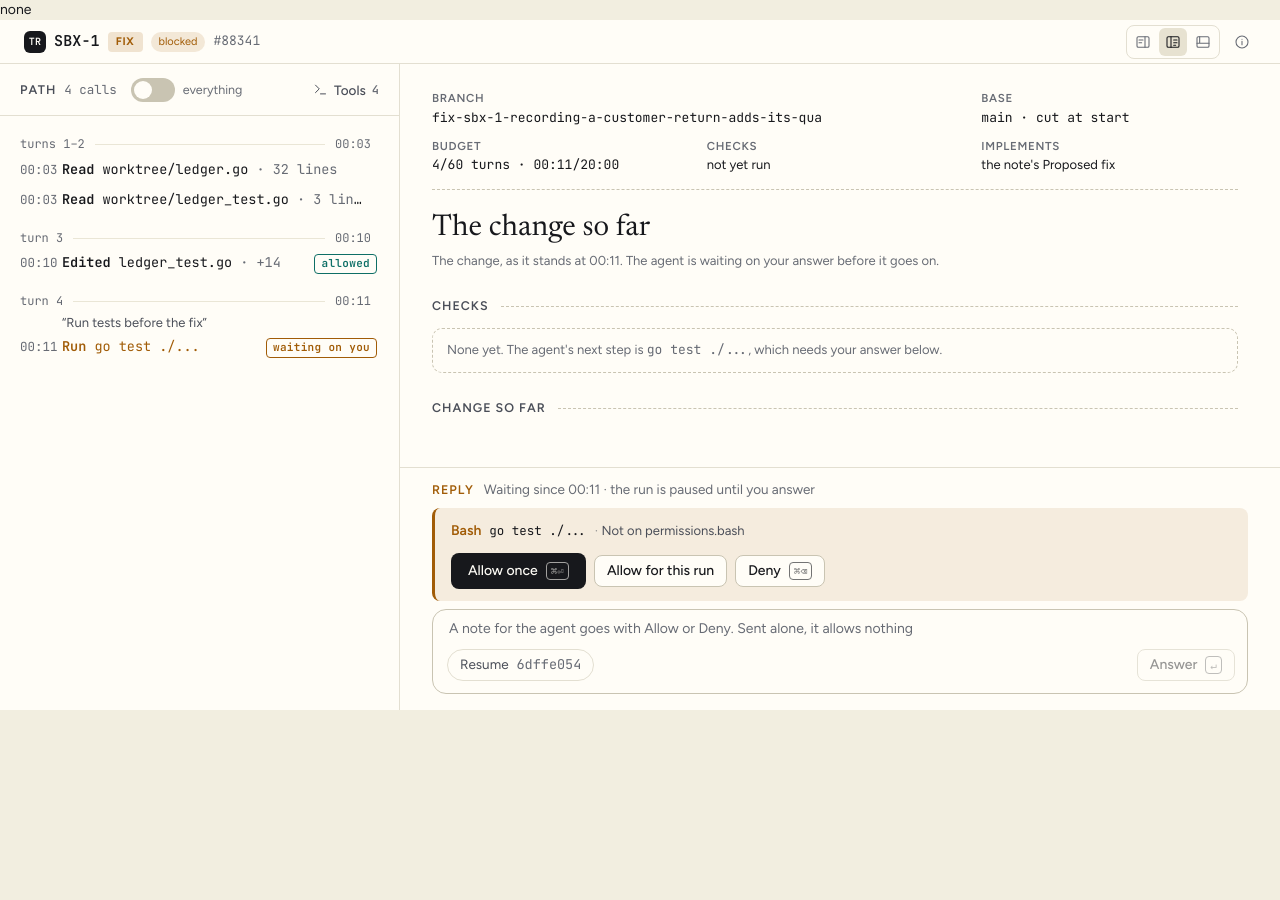
Scenario: S2 · the fix run blocked on go test › answers in words: the free answer goes to resume as text, with no decision
The image size is (1280, 900).
Check: the heading "SBX-1" is shown, box [54, 31, 100, 53]
Replace the text in the text box named "Answer" with "Run only the ledger package." at [840, 626], box [433, 610, 1247, 643]
(page scrolled)
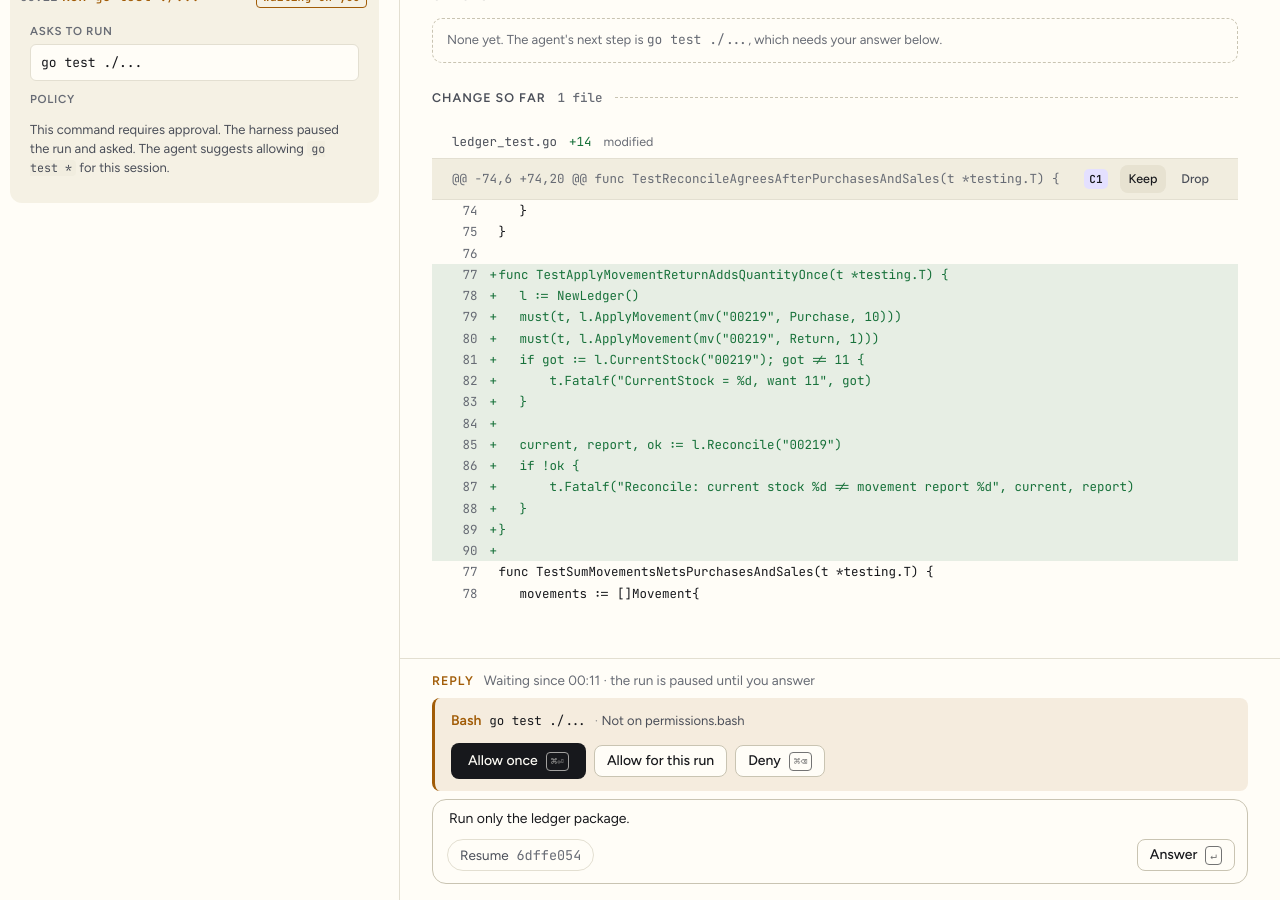
Click the button "Answer ↵" at [1186, 855], box [1137, 839, 1235, 871]
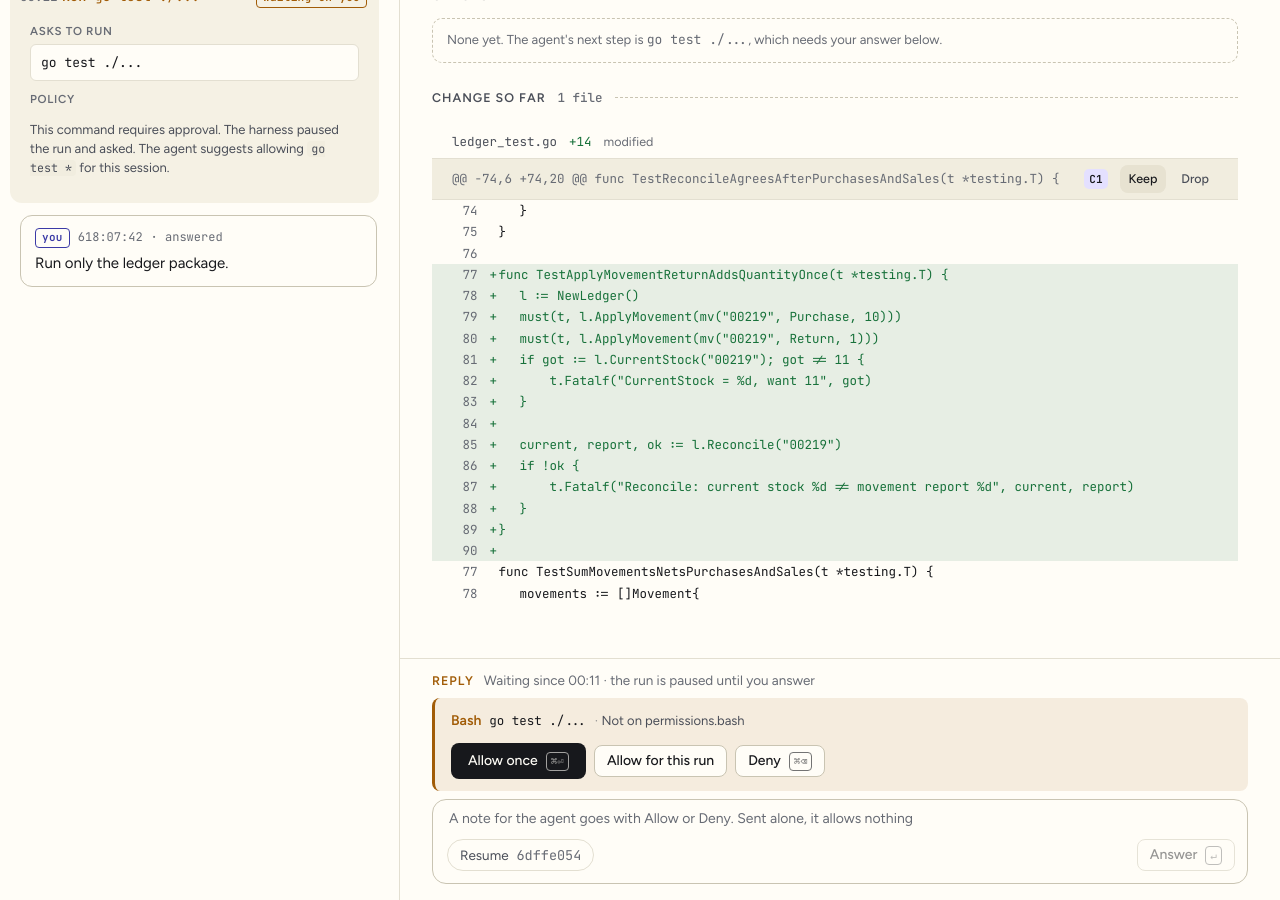
Check: the text "Run only the ledger package." is shown, box [35, 254, 228, 272]
